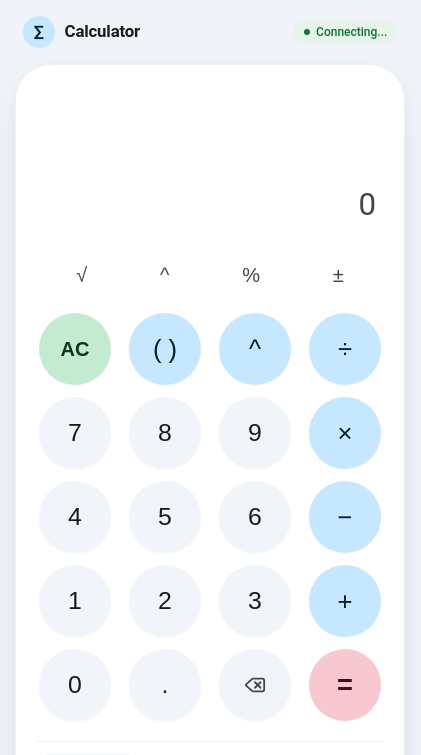
Calculator App Integration › correctly handles 55 + 55: clears main display on operator and replaces cleanly without 5555
The width and height of the screenshot is (421, 755).
Click the button with test id "key-5". click: (165, 517)
box: 129,481 -> 201,553
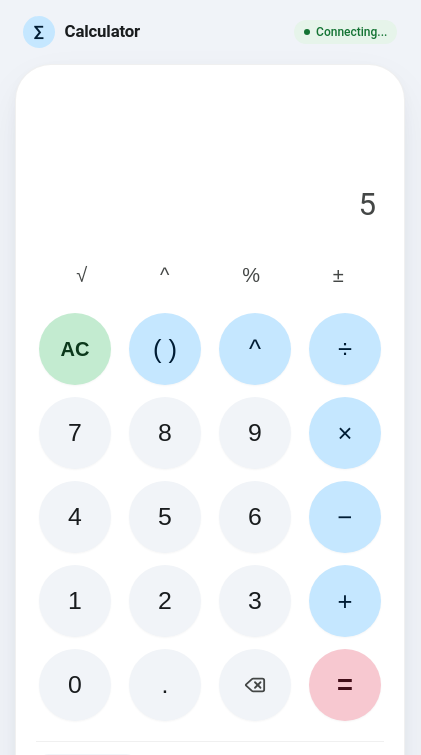
Click the button with test id "key-5". click: (165, 517)
box: 129,481 -> 201,553
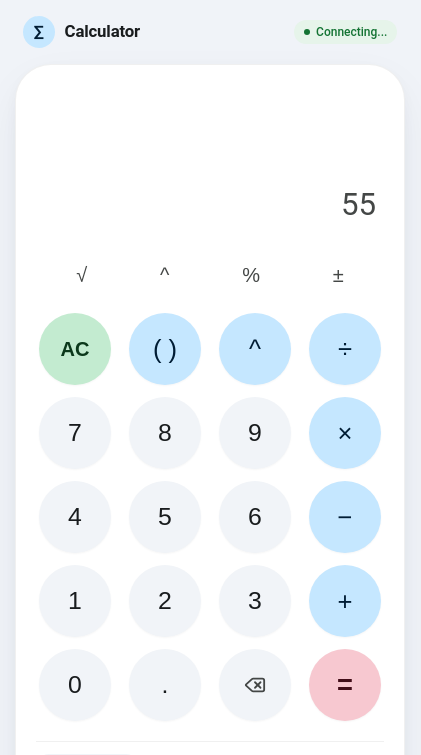
Now the text with test id "display-value" reads "55", box 341,186 -> 376,223
Click + (55 moves to equation, main display clears/resets to 0, active operator glows)
Click the button with test id "key-add". click: (345, 601)
box: 309,565 -> 381,637
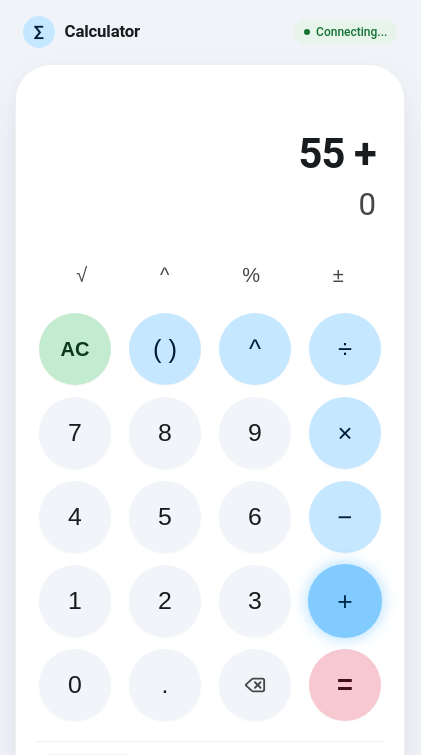
Now the text with test id "display-equation" reads "55 +", box 298,129 -> 376,178
Now the text with test id "display-value" reads "0", box 358,186 -> 376,223
Click the button with test id "key-5". click: (165, 517)
box: 129,481 -> 201,553
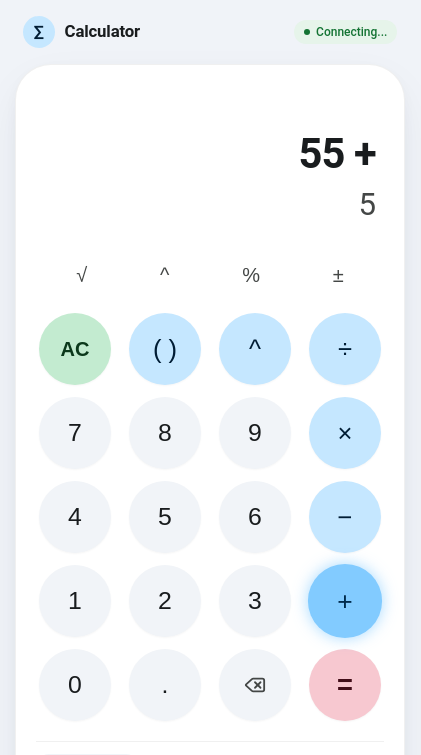
Now the text with test id "display-value" reads "5", box 358,186 -> 376,223
Click the button with test id "key-5". click: (165, 517)
box: 129,481 -> 201,553
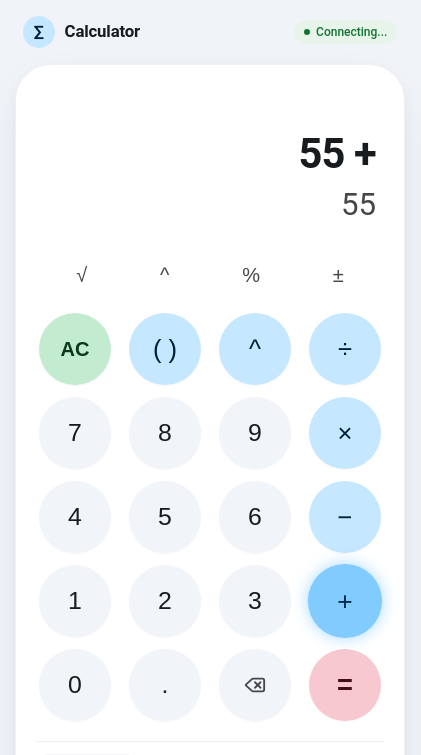
Now the text with test id "display-value" reads "55", box 341,186 -> 376,223
Click the button with test id "key-equals". click: (345, 685)
box: 309,649 -> 381,721
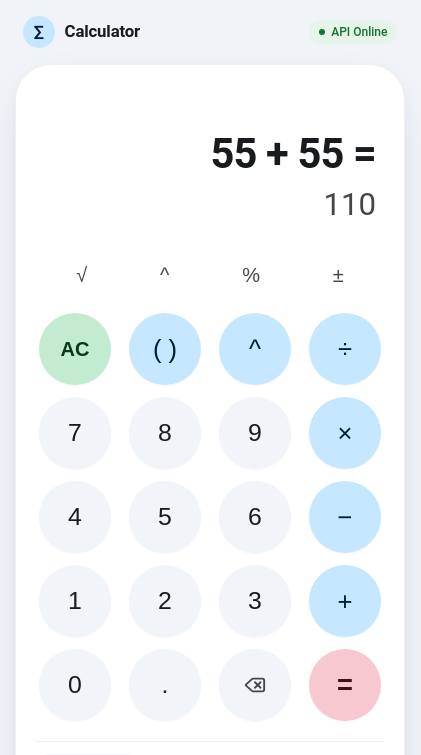
Now the text with test id "display-value" reads "110", box 323,186 -> 376,223
Now the text with test id "display-equation" reads "55 + 55 =", box 210,129 -> 376,178
